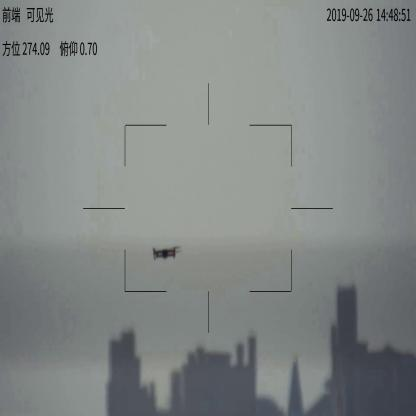uav: (147, 245, 182, 260)
